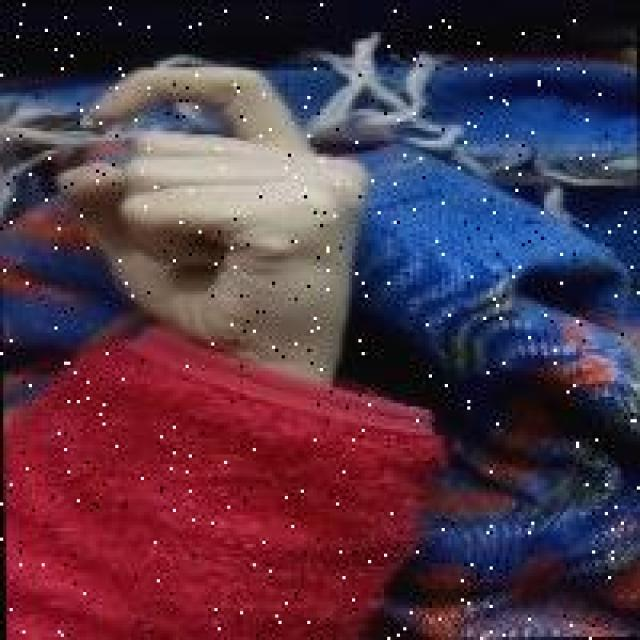X: (46, 58, 376, 403)
